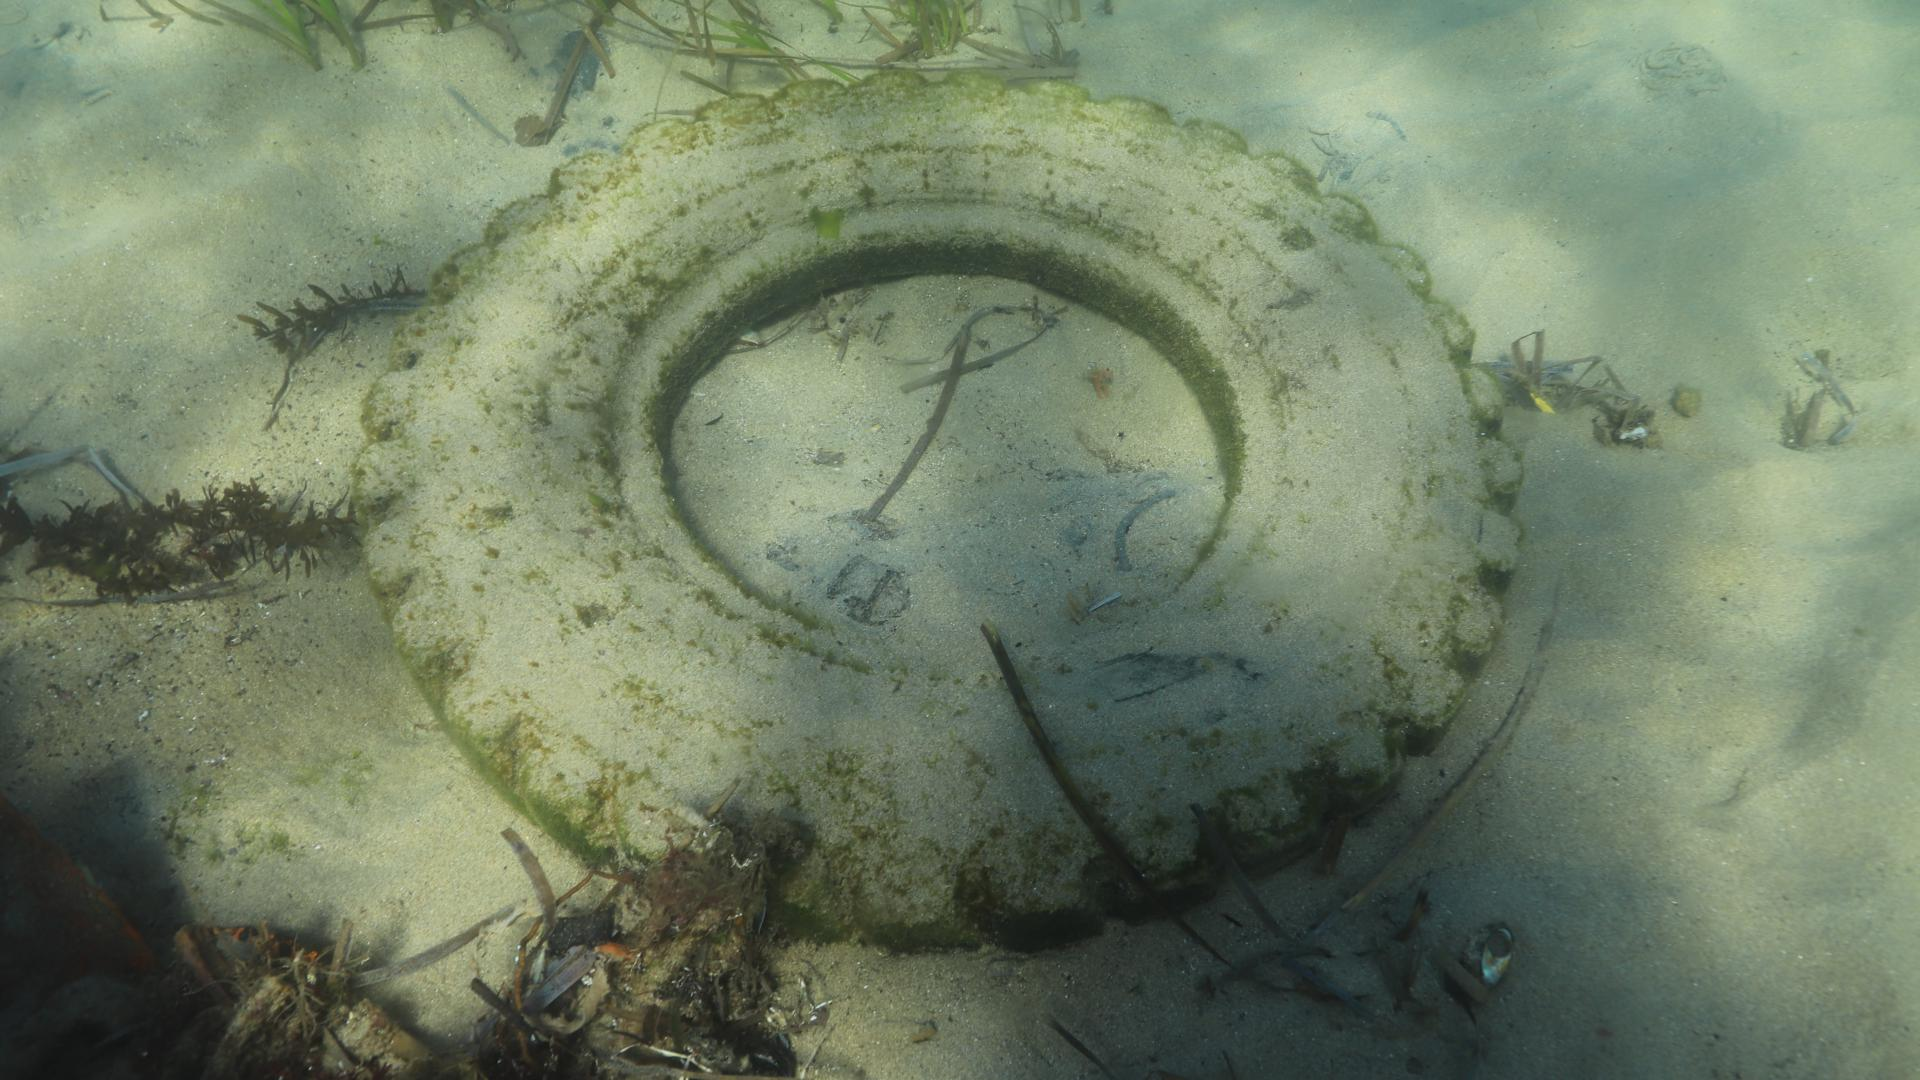tire: (351, 65, 1524, 953)
